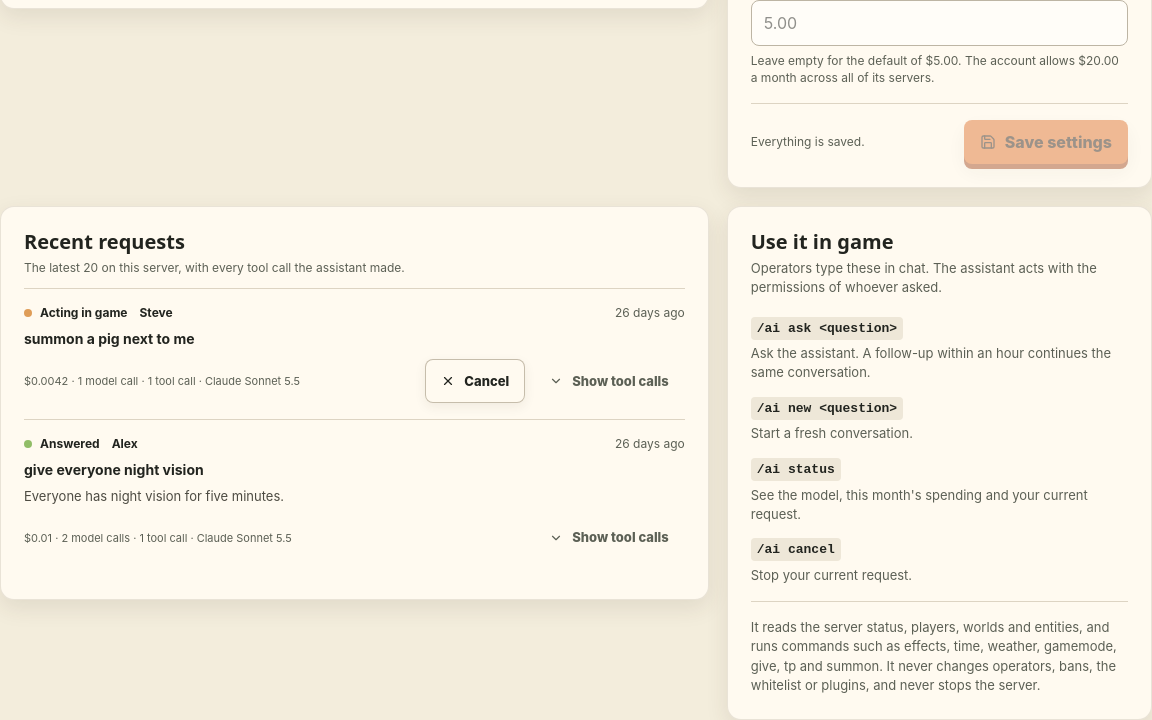
it: AI assistant page › lists recent requests and cancels only the ones still in progress
(page scrolled)
Check: the text "Acting in game" is shown, box [24, 305, 128, 321]
Check: the text "Steve" is shown, box [140, 305, 173, 321]
Click the button "Cancel".
click(475, 381)  # box [425, 359, 525, 403]
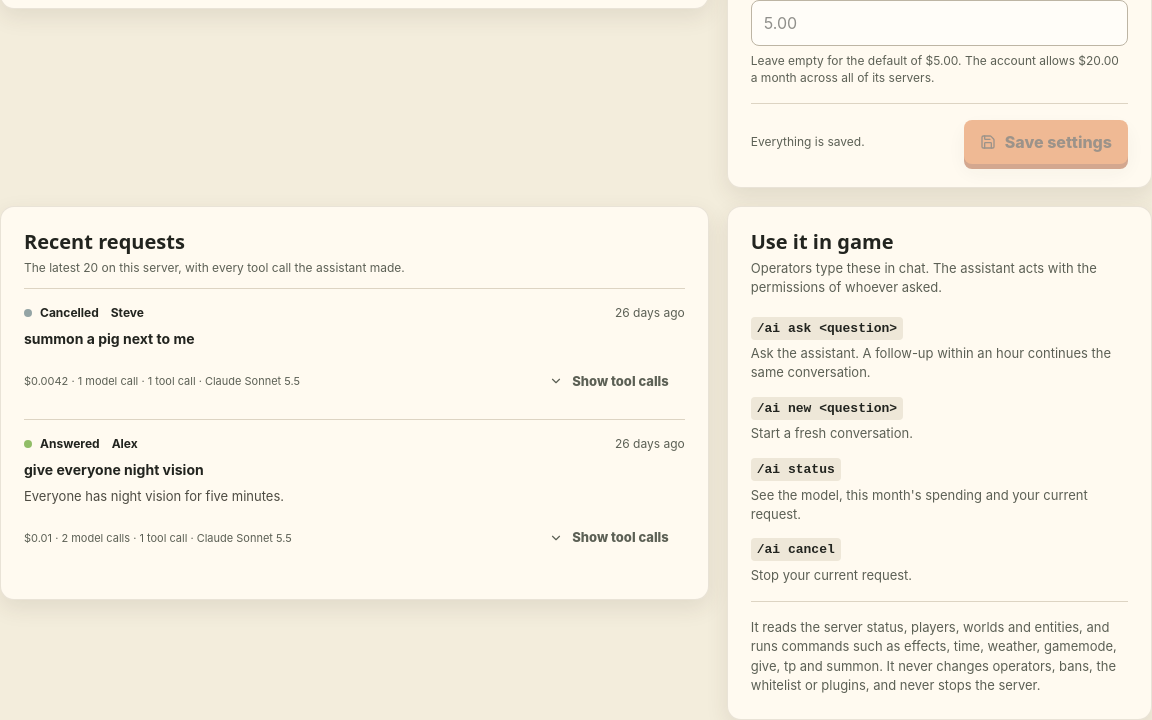
Check: the text "Cancelled" is shown, box [24, 305, 99, 321]
